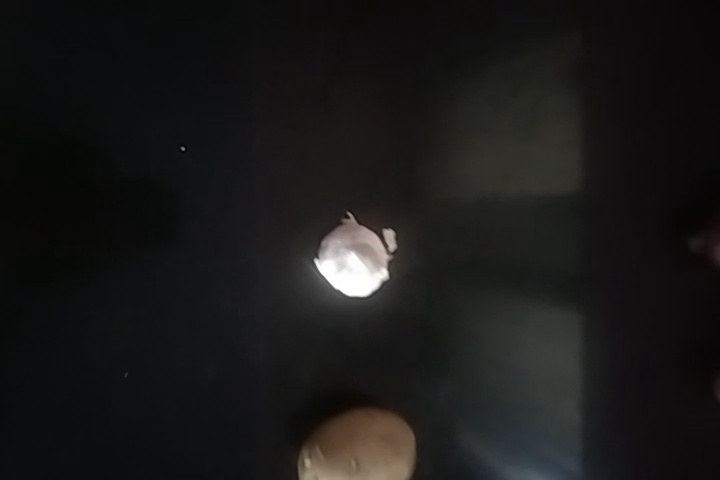garlic: (315, 213, 398, 302)
potato: (291, 404, 433, 480)
